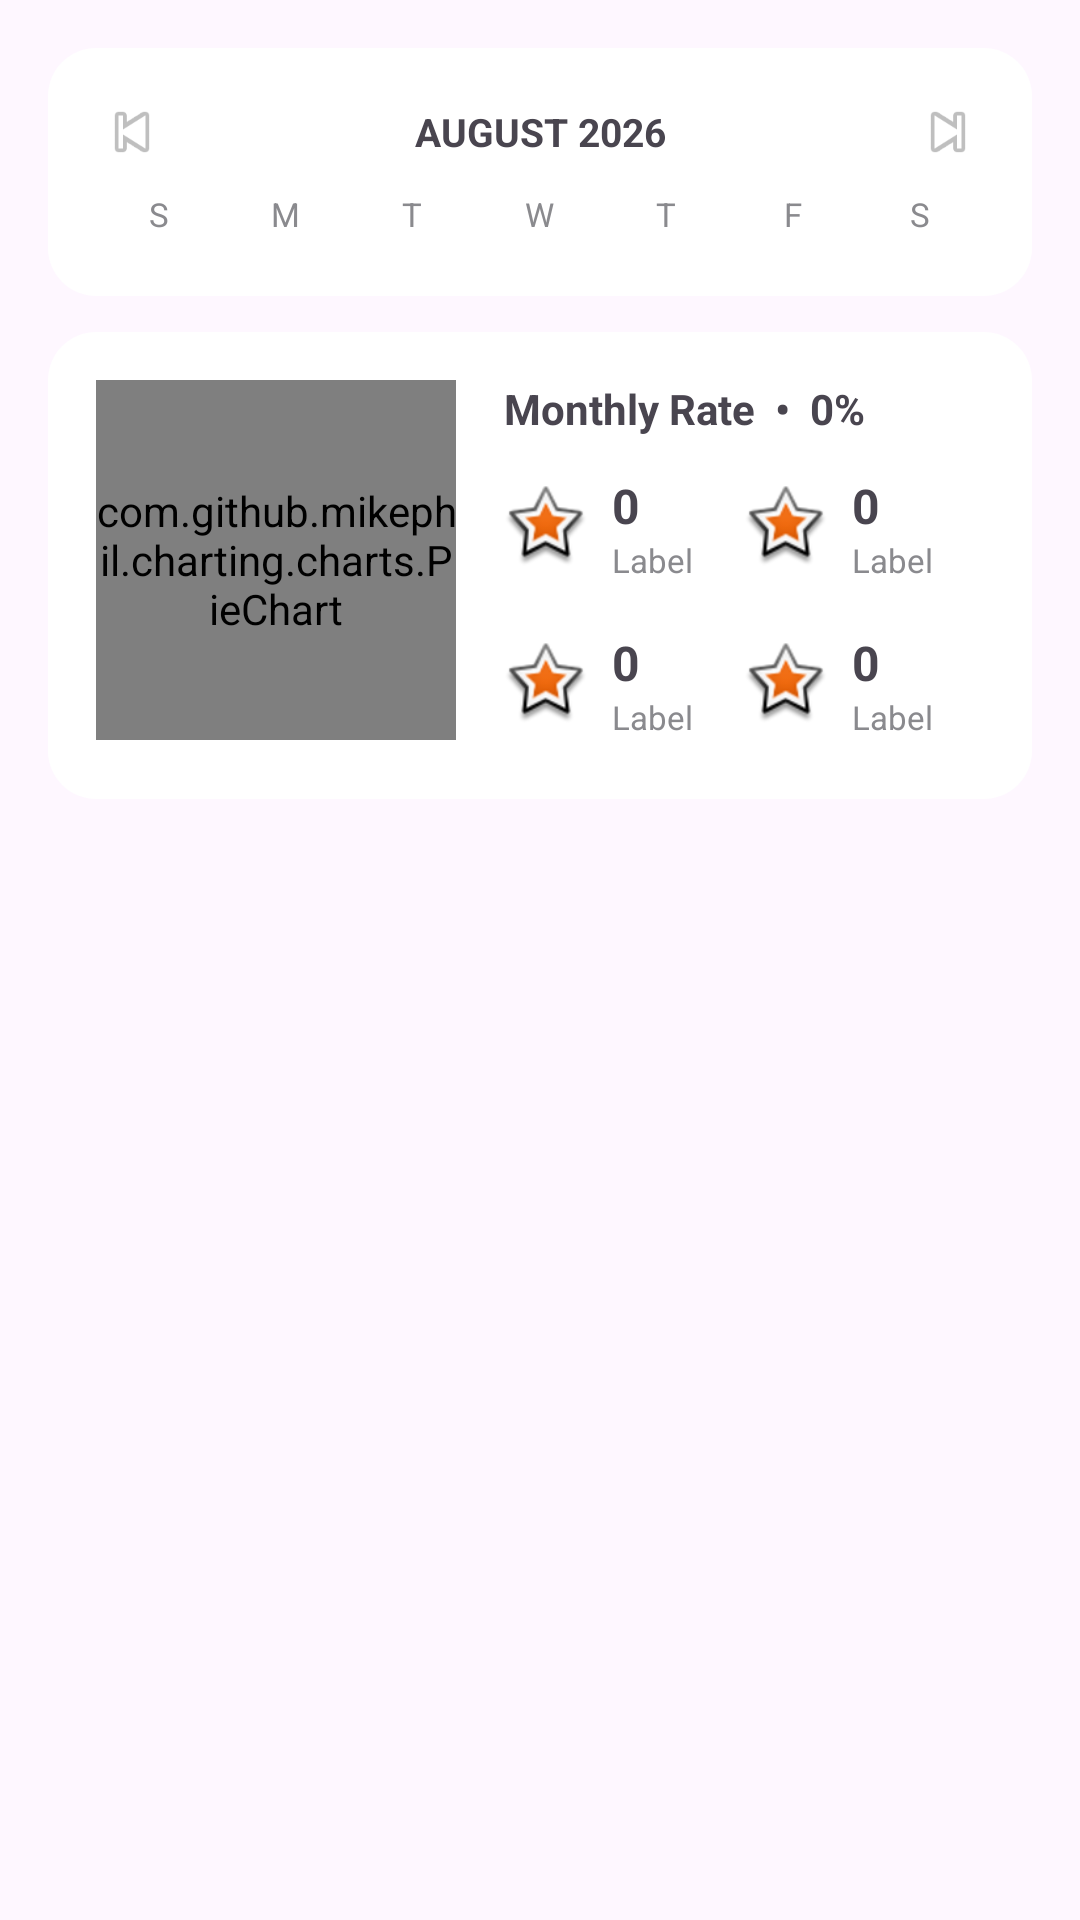

Icons on this 1080w x 1920h Android screen, each with its box as (x1, y1, x2, y2):
Next month: (931, 112, 965, 152)
Previous month: (115, 112, 149, 152)
star on: (509, 486, 583, 562), (749, 486, 823, 562), (509, 643, 583, 719), (749, 643, 823, 719)
